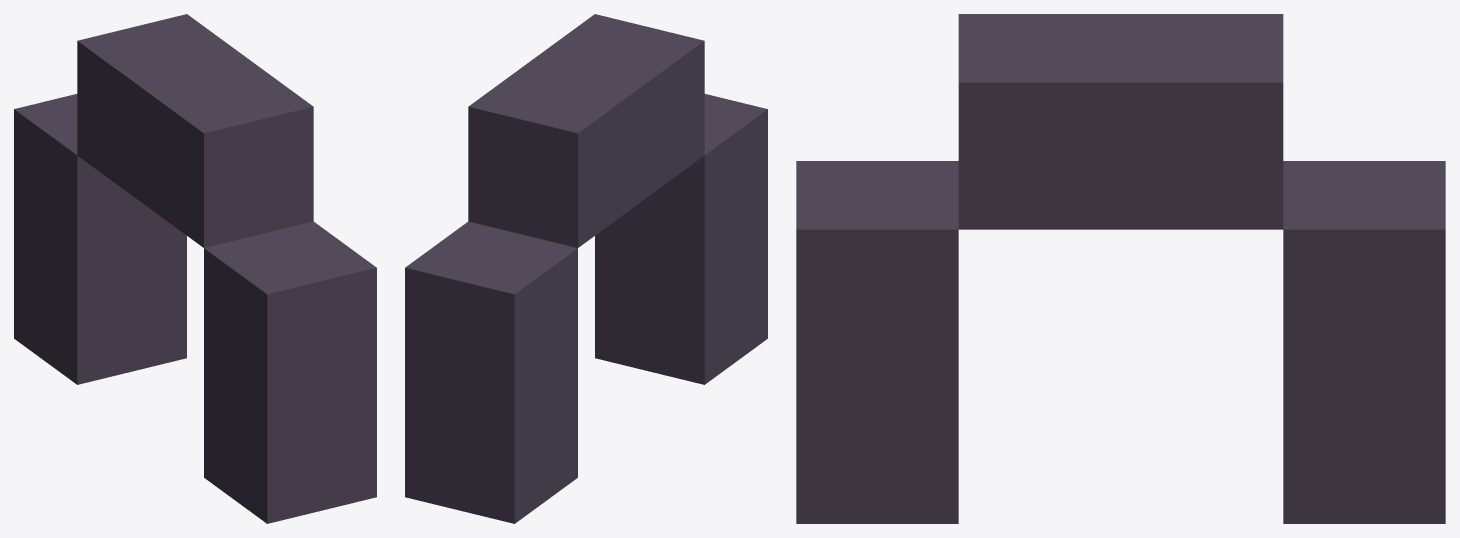
File: can_sniper-5.fbx
3 renders of one model, left to right at view 1: azimuth 30°, elevation 25°; view 2: azimuth 150°, elevation 25°; view 3: azimuth 270°, elevation 25°, orthographic. The views are drawn at different scales.
Parts seen in each view (by area): view 1: can_sniper-5.001; view 2: can_sniper-5.001; view 3: can_sniper-5.001.
Part boxes in pixels (x1,y1,x2,y2): can_sniper-5.001: (14,14,376,523); can_sniper-5.001: (405,14,767,523); can_sniper-5.001: (796,14,1445,523).
Size of the model in its own units: 0.1 by 0.3 by 0.4.
1 material, 1 textured.
